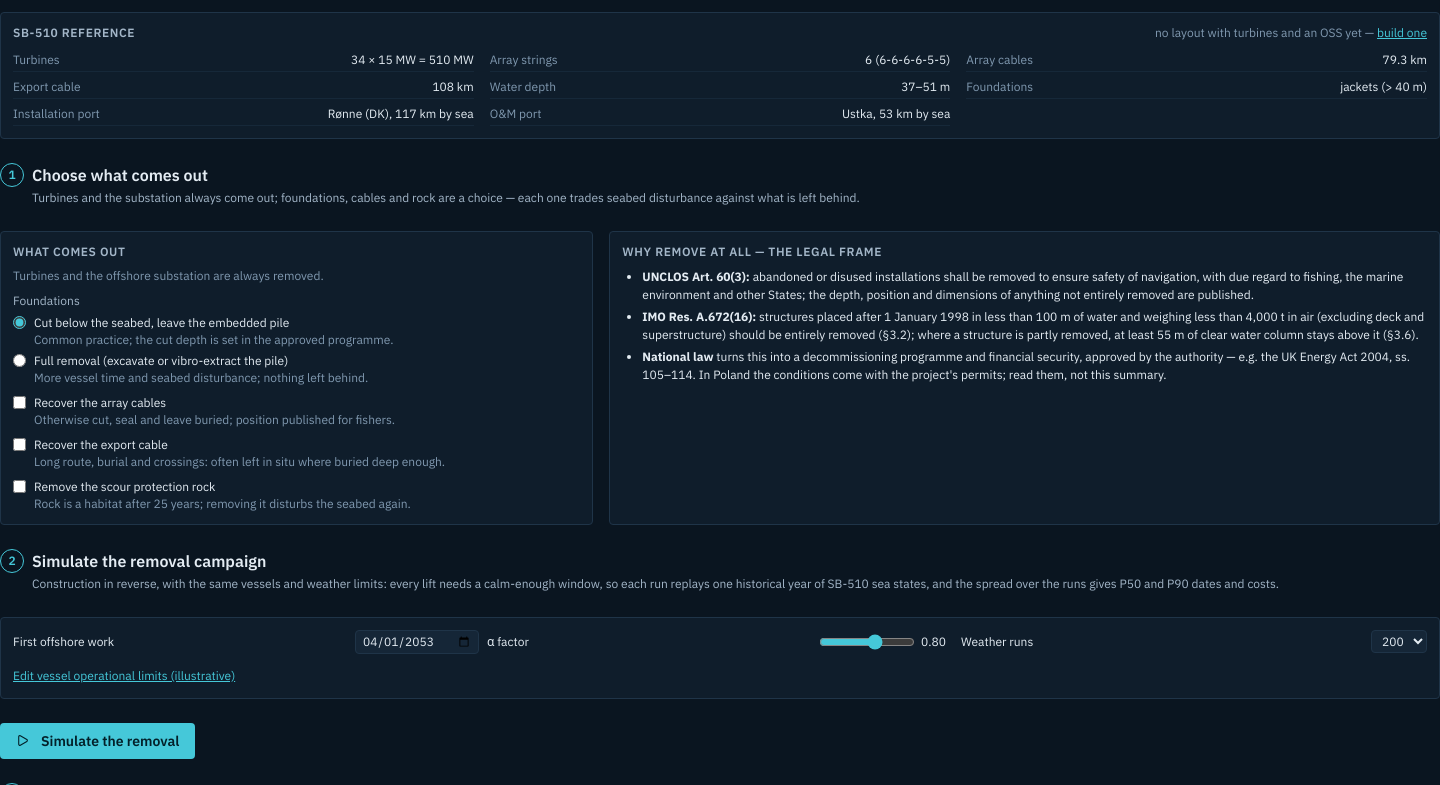
Test: lifecycle pages › decommissioning: options go into the request and the cost appears
This screenshot has width=1440, height=785.
(page scrolled)
Expected: the text "IMO Res. A.672(16):" is shown, top-left (642, 309), bottom-right (756, 324)
Click the checkbox labelled "Recover the array cables". click: click(20, 402)
box: top-left (13, 396), bottom-right (26, 409)
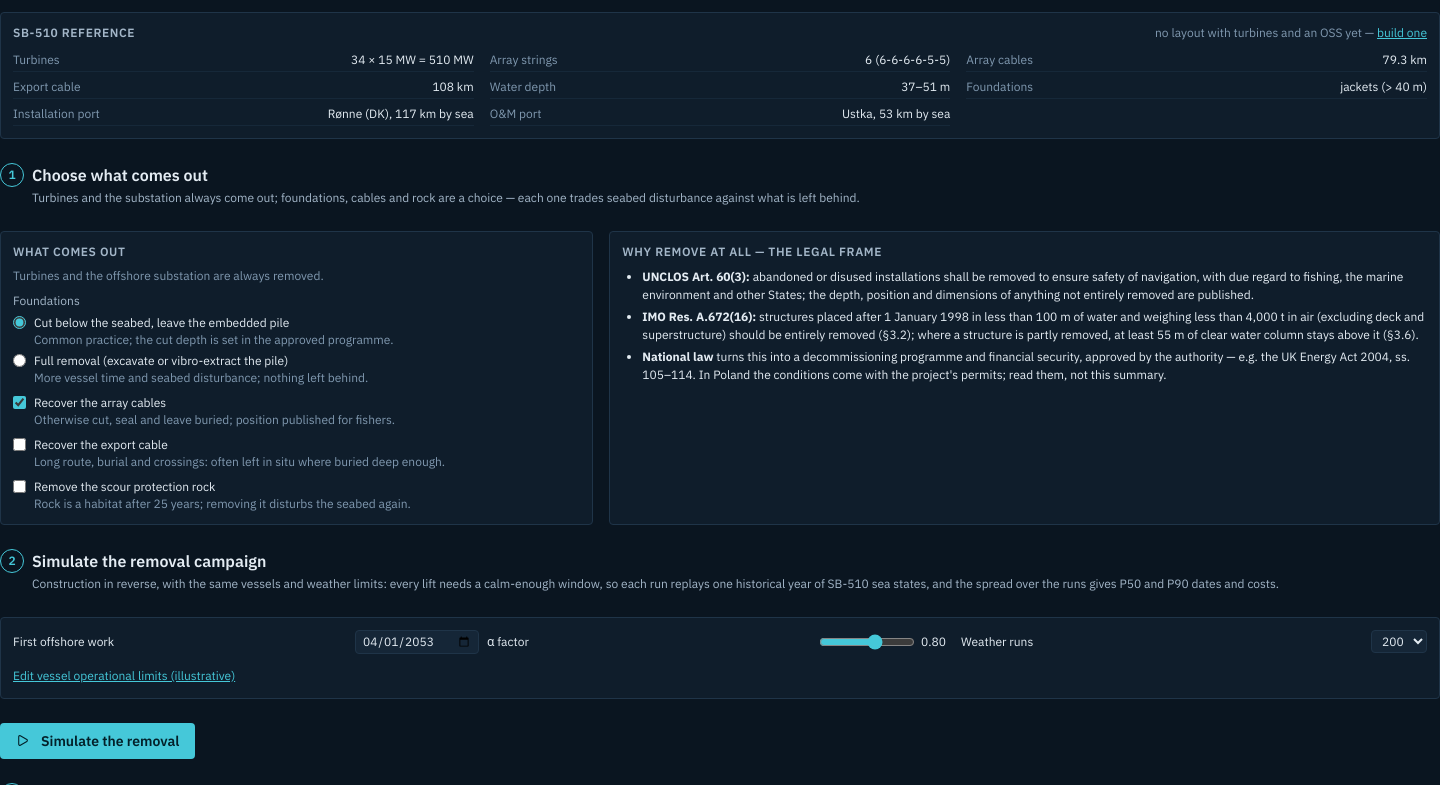
Click the radio button labelled "Full removal". click: click(20, 360)
box: top-left (13, 354), bottom-right (26, 367)
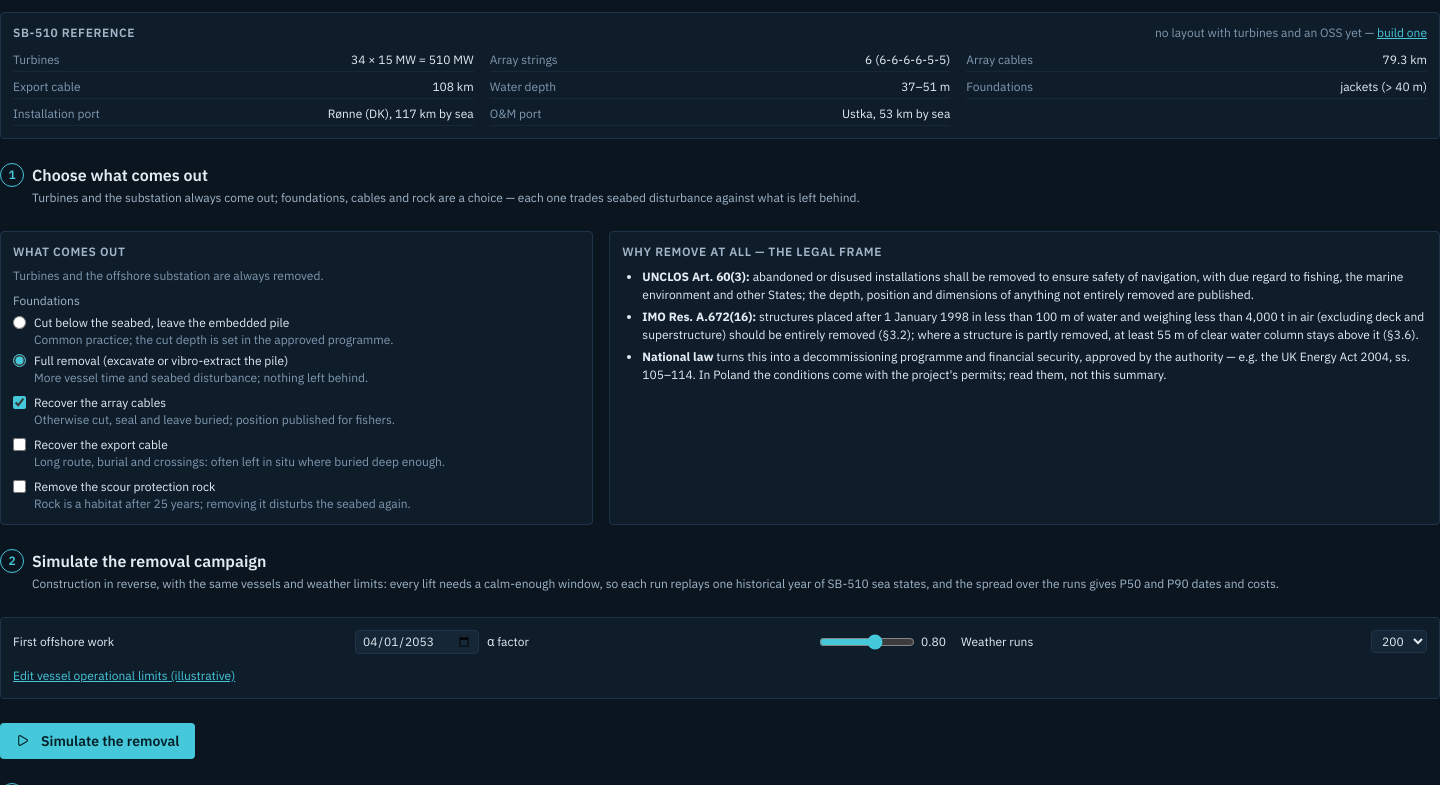
Click the button "Simulate the removal". click: click(98, 741)
box: top-left (0, 723), bottom-right (195, 759)
(page scrolled)
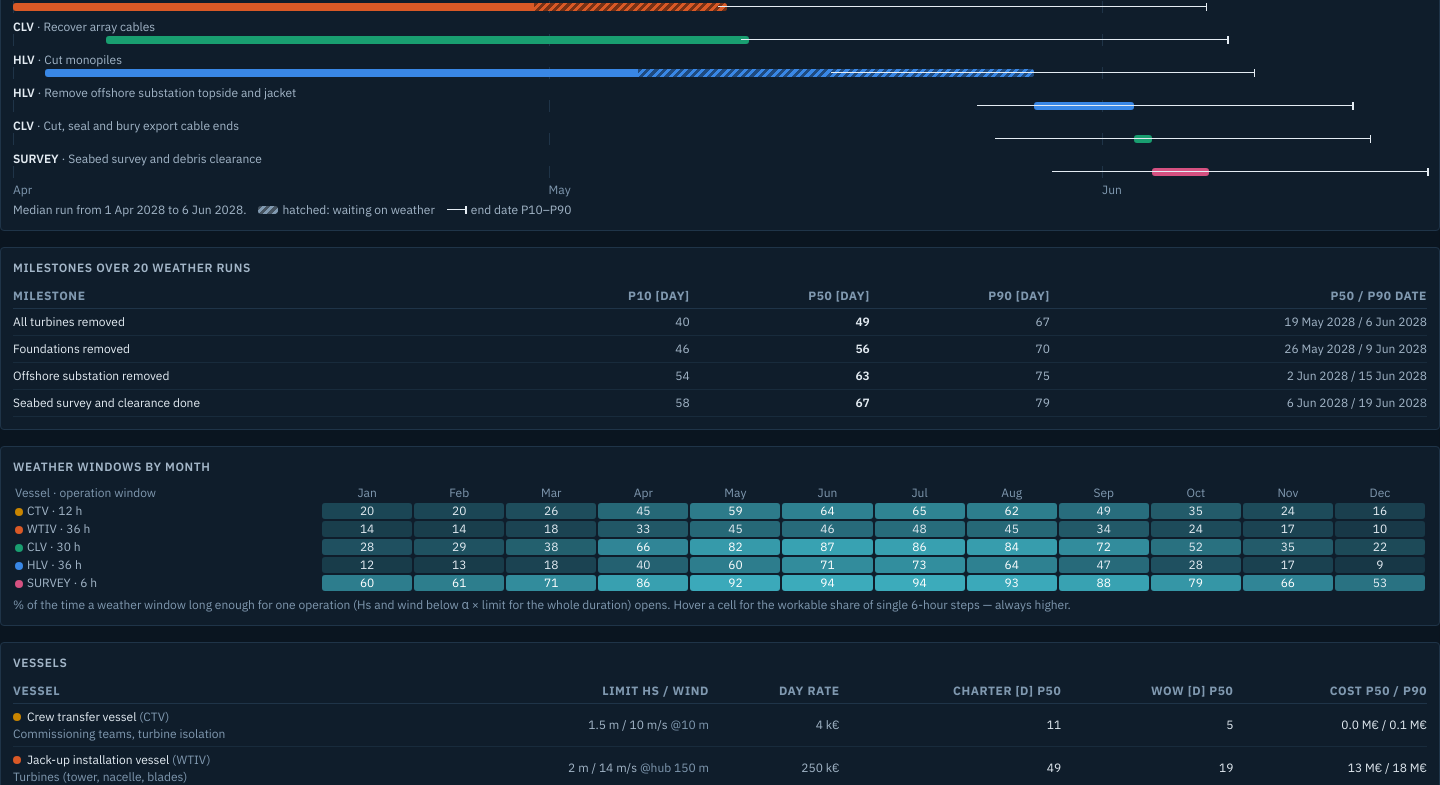
Result: the text "Seabed survey and clearance done" is shown at top-left (13, 389), bottom-right (518, 416)
